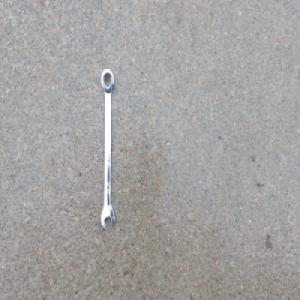Wrench: (99, 66, 115, 231)
